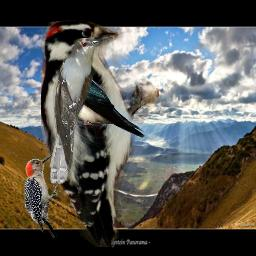Cuckoo: (48, 36, 103, 184)
Swallow: (66, 68, 146, 139)
Woodpecker: (41, 20, 159, 247), (21, 153, 58, 243)
